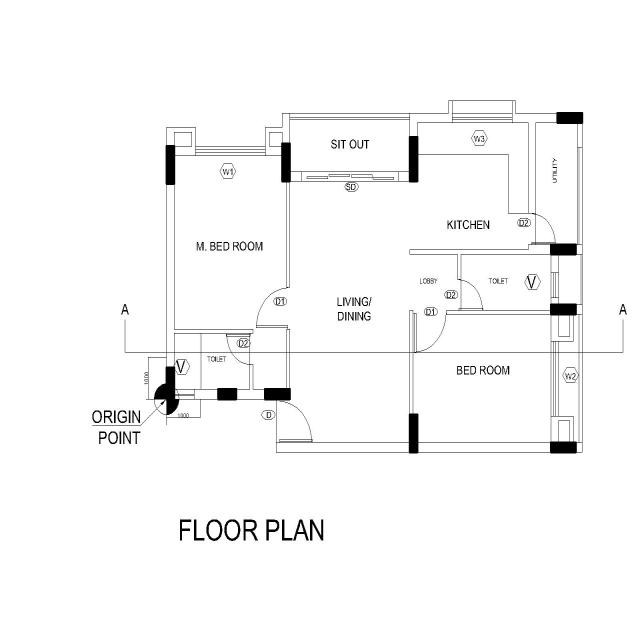Column: (408, 134, 420, 184), (408, 412, 420, 455), (280, 141, 292, 184), (263, 386, 292, 402), (549, 302, 578, 318), (165, 144, 176, 186), (556, 110, 584, 126), (549, 440, 578, 455), (550, 242, 578, 256), (165, 365, 175, 403), (216, 388, 238, 402)
Door: (274, 396, 282, 455), (528, 203, 537, 249), (284, 284, 292, 332), (407, 309, 450, 317), (456, 275, 464, 316), (248, 328, 255, 370)
Sliding Door: (300, 169, 400, 185)
Ventilator: (550, 271, 560, 299), (173, 388, 195, 400)
Window: (194, 144, 267, 158), (451, 111, 514, 125), (550, 340, 560, 418)
